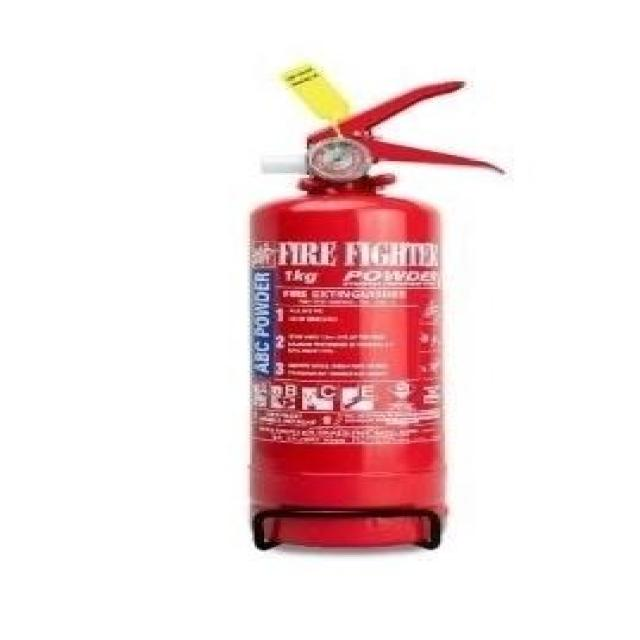fire_extinguisher: (236, 58, 509, 551)
